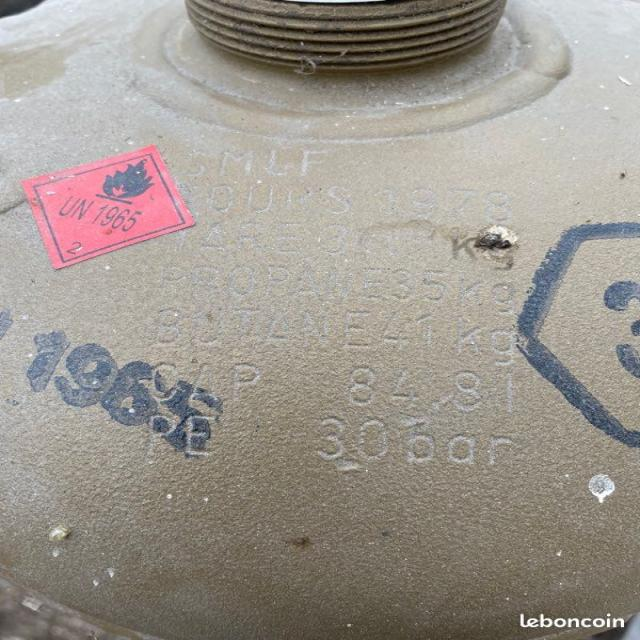ocr: (144, 310, 542, 358), (153, 261, 530, 306), (175, 222, 536, 268), (340, 360, 531, 425), (372, 184, 523, 231), (141, 356, 262, 414), (177, 143, 331, 185), (202, 179, 354, 221), (136, 409, 225, 464)
